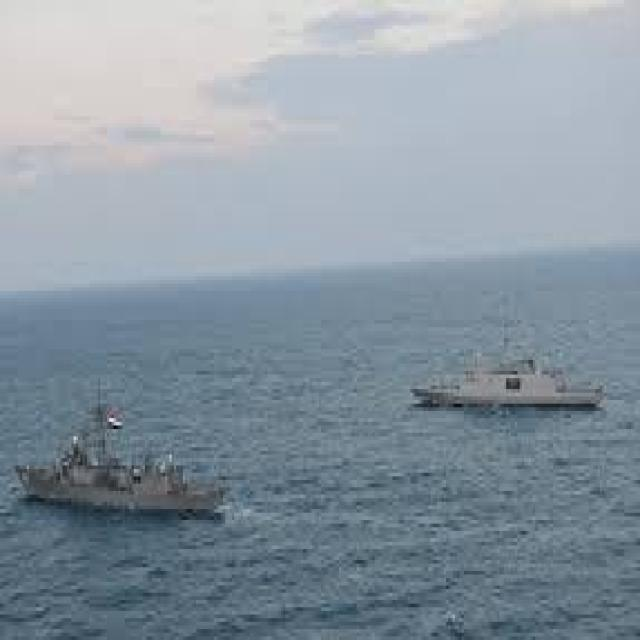navalvessels: (28, 390, 224, 541), (398, 308, 609, 418)
